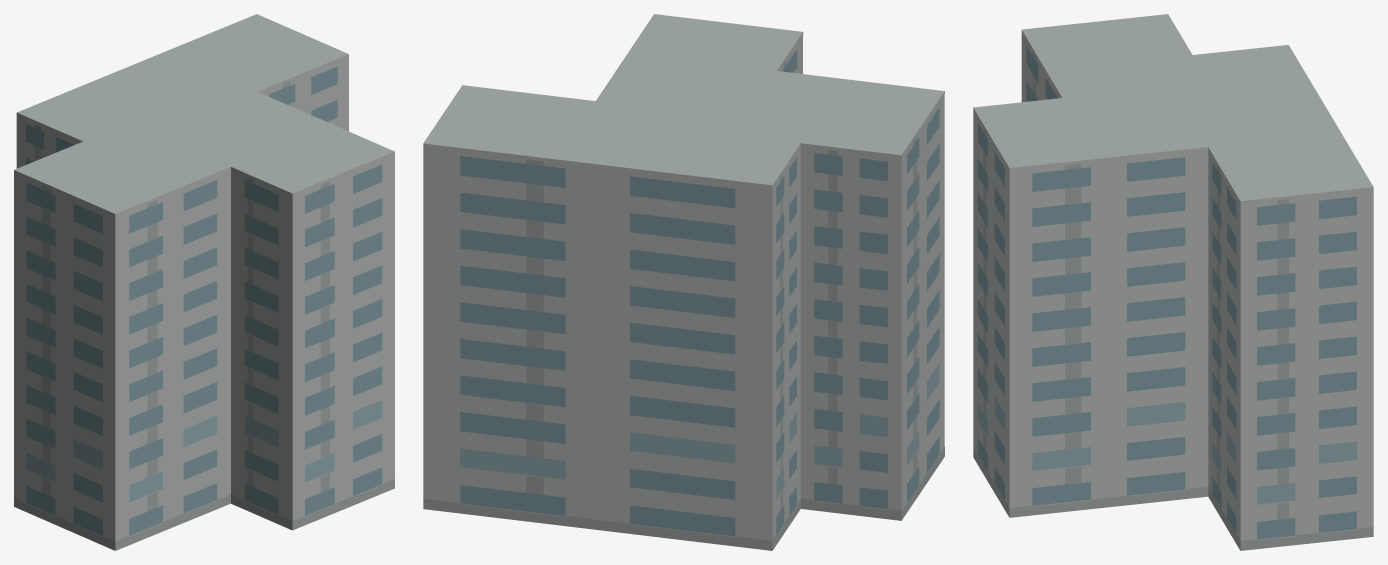
File: residential-e5fcf4c7-9e42-4f4a-ae81-4d9692266bcd.glb
3 renders of one model, left to right at view 1: azimuth 30°, elevation 25°; view 2: azimuth 150°, elevation 25°; view 3: azimuth 270°, elevation 25°, orthographic. The views are drawn at different scales.
Parts seen in each view (by area): view 1: residential-e5fcf4c7-9e42-4f4a-ae81-4d9692266bcd.tmp; view 2: residential-e5fcf4c7-9e42-4f4a-ae81-4d9692266bcd.tmp; view 3: residential-e5fcf4c7-9e42-4f4a-ae81-4d9692266bcd.tmp.
Boxes of the visible parts, <box> form: residential-e5fcf4c7-9e42-4f4a-ae81-4d9692266bcd.tmp: <box>14,14,394,550</box>; residential-e5fcf4c7-9e42-4f4a-ae81-4d9692266bcd.tmp: <box>423,14,944,550</box>; residential-e5fcf4c7-9e42-4f4a-ae81-4d9692266bcd.tmp: <box>973,14,1373,550</box>.
Size of the model in its own units: 31.02 by 27 by 28.03.
